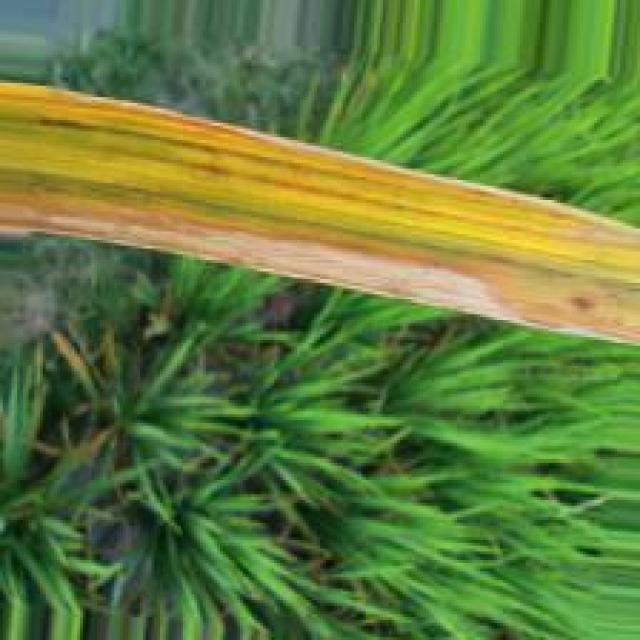Bacterial_Leaf_Blight: (2, 82, 640, 252), (0, 194, 537, 326), (529, 289, 638, 341)
